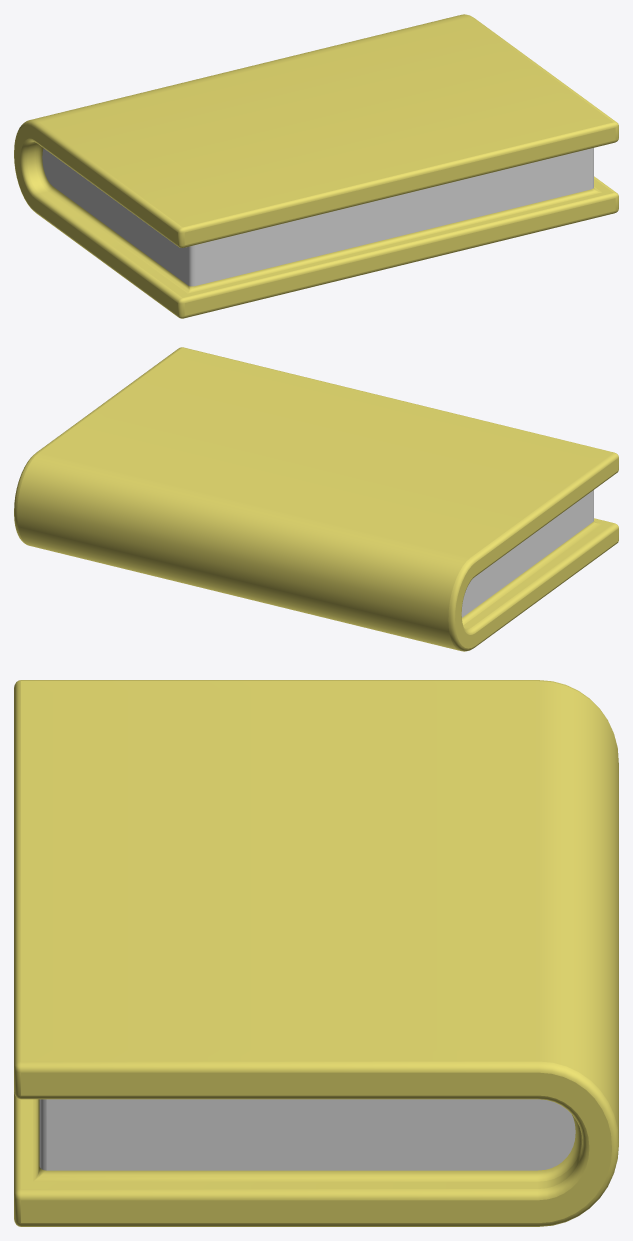
File: book2.glb
3 views of the same model, one above another, from view 1: azimuth 30°, elevation 25°; view 2: azimuth 150°, elevation 25°; view 3: azimuth 270°, elevation 25° (orthographic). The views are drawn at different scales.
Parts seen in each view (by area): view 1: book.003; view 2: book.003; view 3: book.003.
Part boxes in pixels (x1,y1,x2,y2): book.003: [14, 14, 618, 318]; book.003: [14, 347, 618, 651]; book.003: [14, 680, 618, 1226].
Size of the model in its own units: 0.7653 by 0.1508 by 0.5033.
